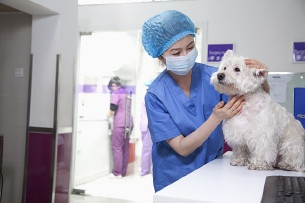Mask: (162, 39, 198, 75)
